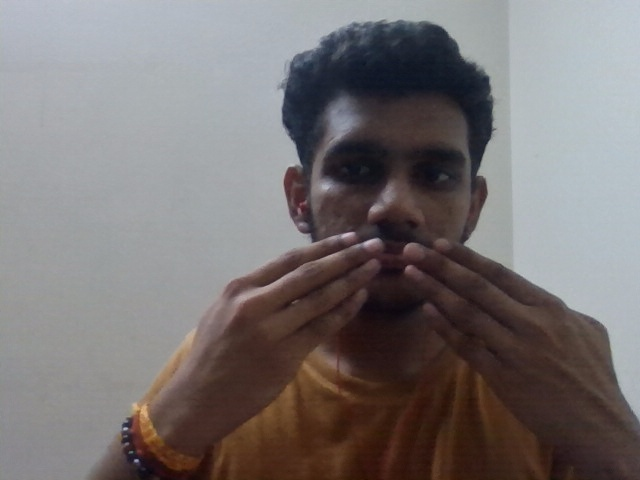thanks: (175, 229, 620, 441)
